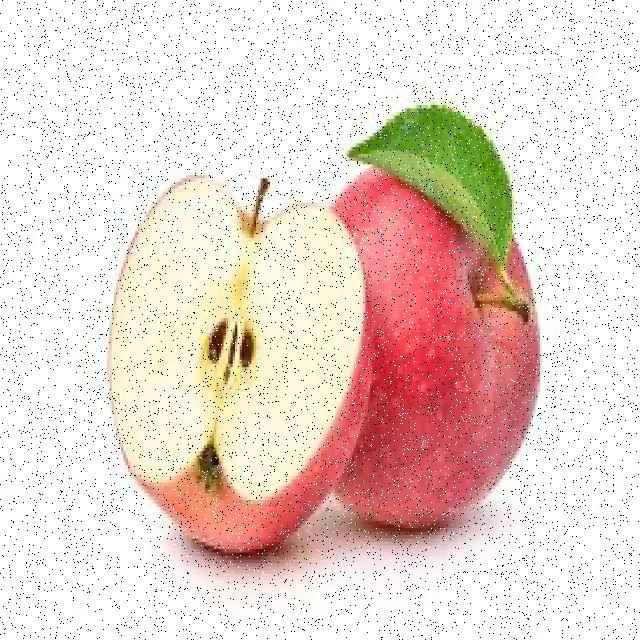Apple: (110, 152, 376, 560), (327, 131, 542, 529)
